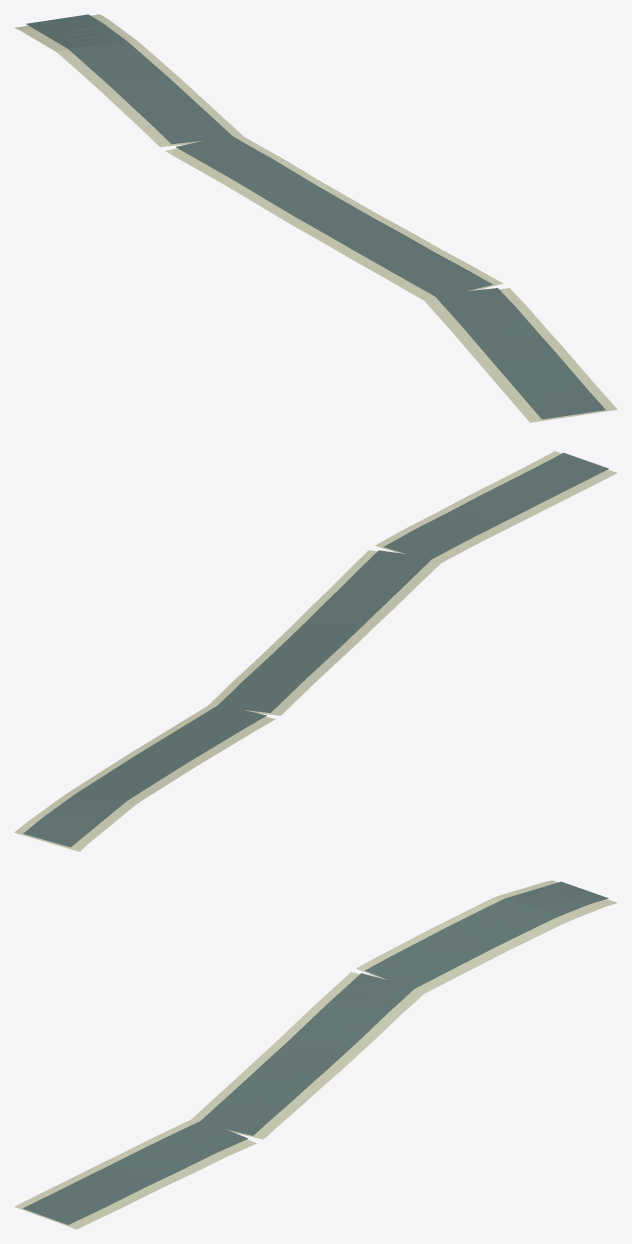
The model's file is Road_03.glb.
The picture shows the model from 3 angles, top to bottom: view 1: azimuth 30°, elevation 25°; view 2: azimuth 150°, elevation 25°; view 3: azimuth 330°, elevation 25°; orthographic projection. The views are drawn at different scales.
Parts seen in each view (by area): view 1: Road_03; view 2: Road_03; view 3: Road_03.
Boxes of the visible parts, x1,y1,x2,y2 form: Road_03: [14, 14, 617, 422]; Road_03: [14, 451, 617, 851]; Road_03: [14, 880, 617, 1229].
Bounding box in the file's own units: 7.63 × 1.88 × 58.8.
